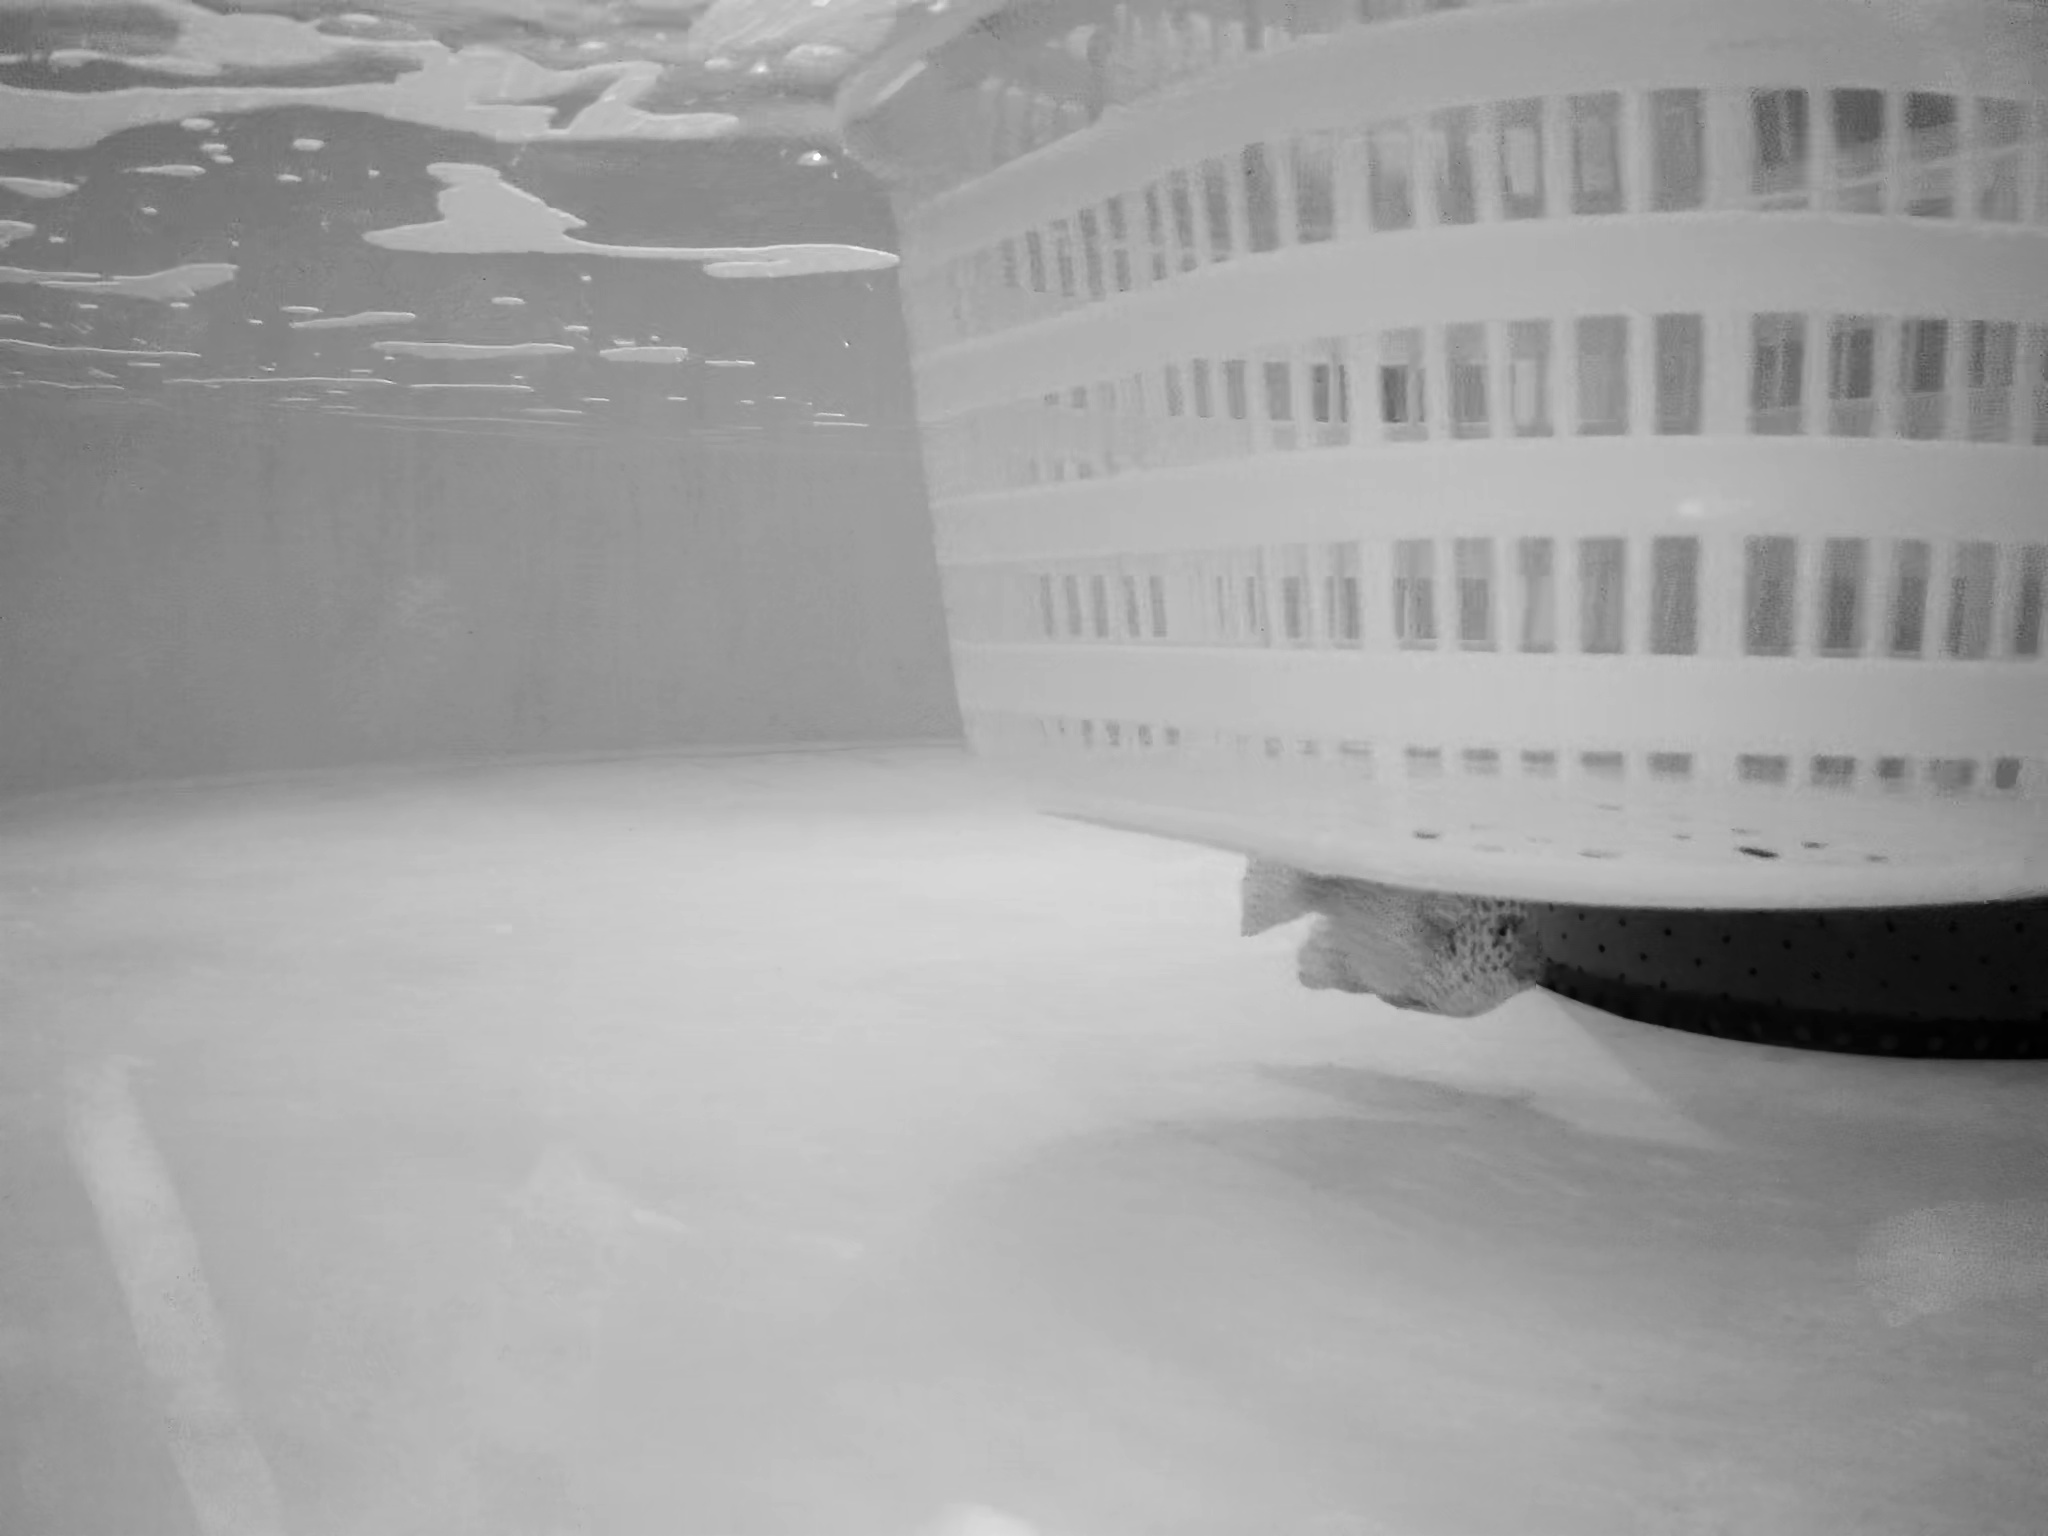fish: (1247, 824, 1550, 1012)
